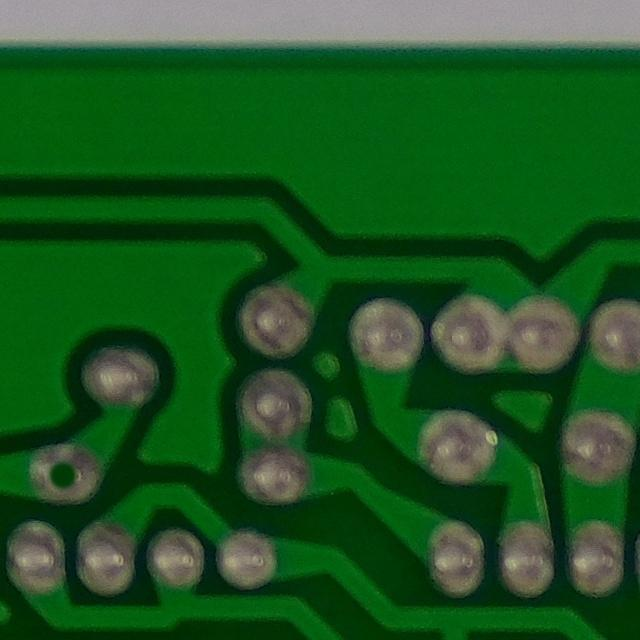missing_hole: (22, 434, 107, 508)
